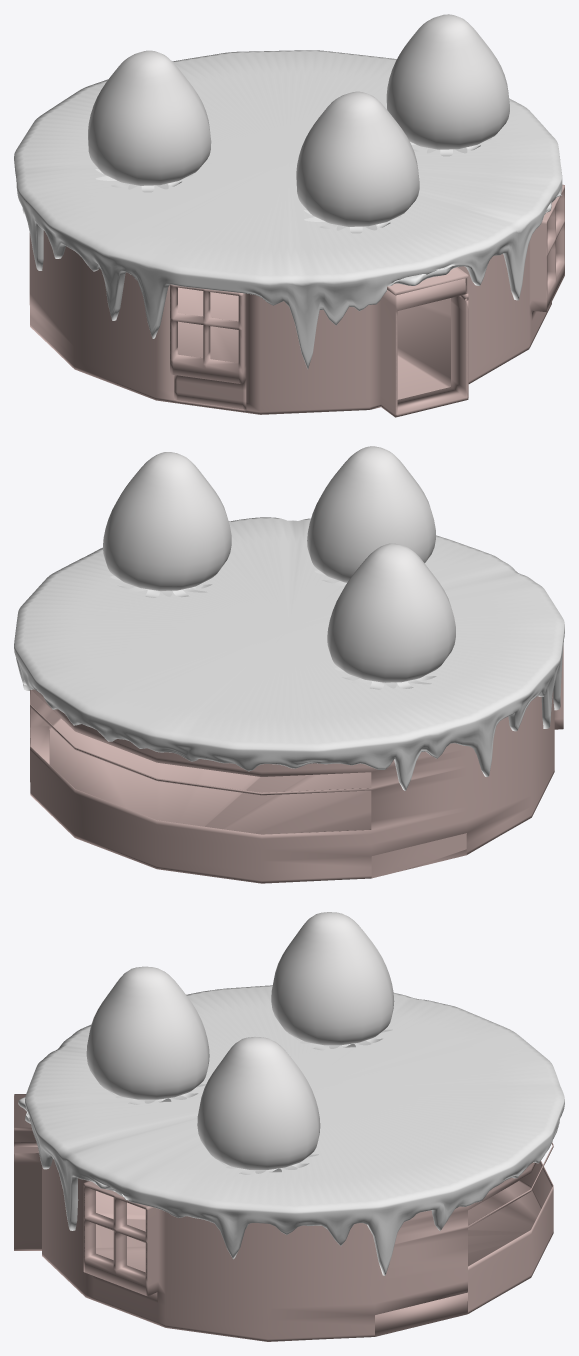
The model's file is building2fbfbfbf.fbx.
3 views of the same model, one above another, from view 1: azimuth 30°, elevation 25°; view 2: azimuth 150°, elevation 25°; view 3: azimuth 270°, elevation 25° (orthographic). The views are drawn at different scales.
Parts seen in each view (by area): view 1: Cylinder.009, Cylinder, strawberry_berry.002, strawberry_berry.021, strawberry_berry.001; view 2: Cylinder.009, Cylinder, strawberry_berry.002, strawberry_berry.001, strawberry_berry.021; view 3: Cylinder.009, Cylinder, strawberry_berry.001, strawberry_berry.021, strawberry_berry.002.
Boxes of the visible parts, x1,y1,x2,y2 form: Cylinder.009: (14, 50, 562, 369); Cylinder: (29, 184, 564, 417); strawberry_berry.002: (88, 50, 211, 192); strawberry_berry.021: (296, 91, 419, 233); strawberry_berry.001: (386, 14, 509, 156); Cylinder.009: (14, 517, 564, 790); Cylinder: (30, 646, 563, 883); strawberry_berry.002: (327, 543, 455, 689); strawberry_berry.001: (103, 452, 231, 597); strawberry_berry.021: (307, 446, 435, 586); Cylinder.009: (18, 985, 564, 1275); Cylinder: (14, 1094, 553, 1341); strawberry_berry.001: (197, 1037, 320, 1174); strawberry_berry.021: (86, 966, 209, 1104); strawberry_berry.002: (271, 912, 394, 1050).
Size of the model in its own units: 1462 by 779 by 1493.
